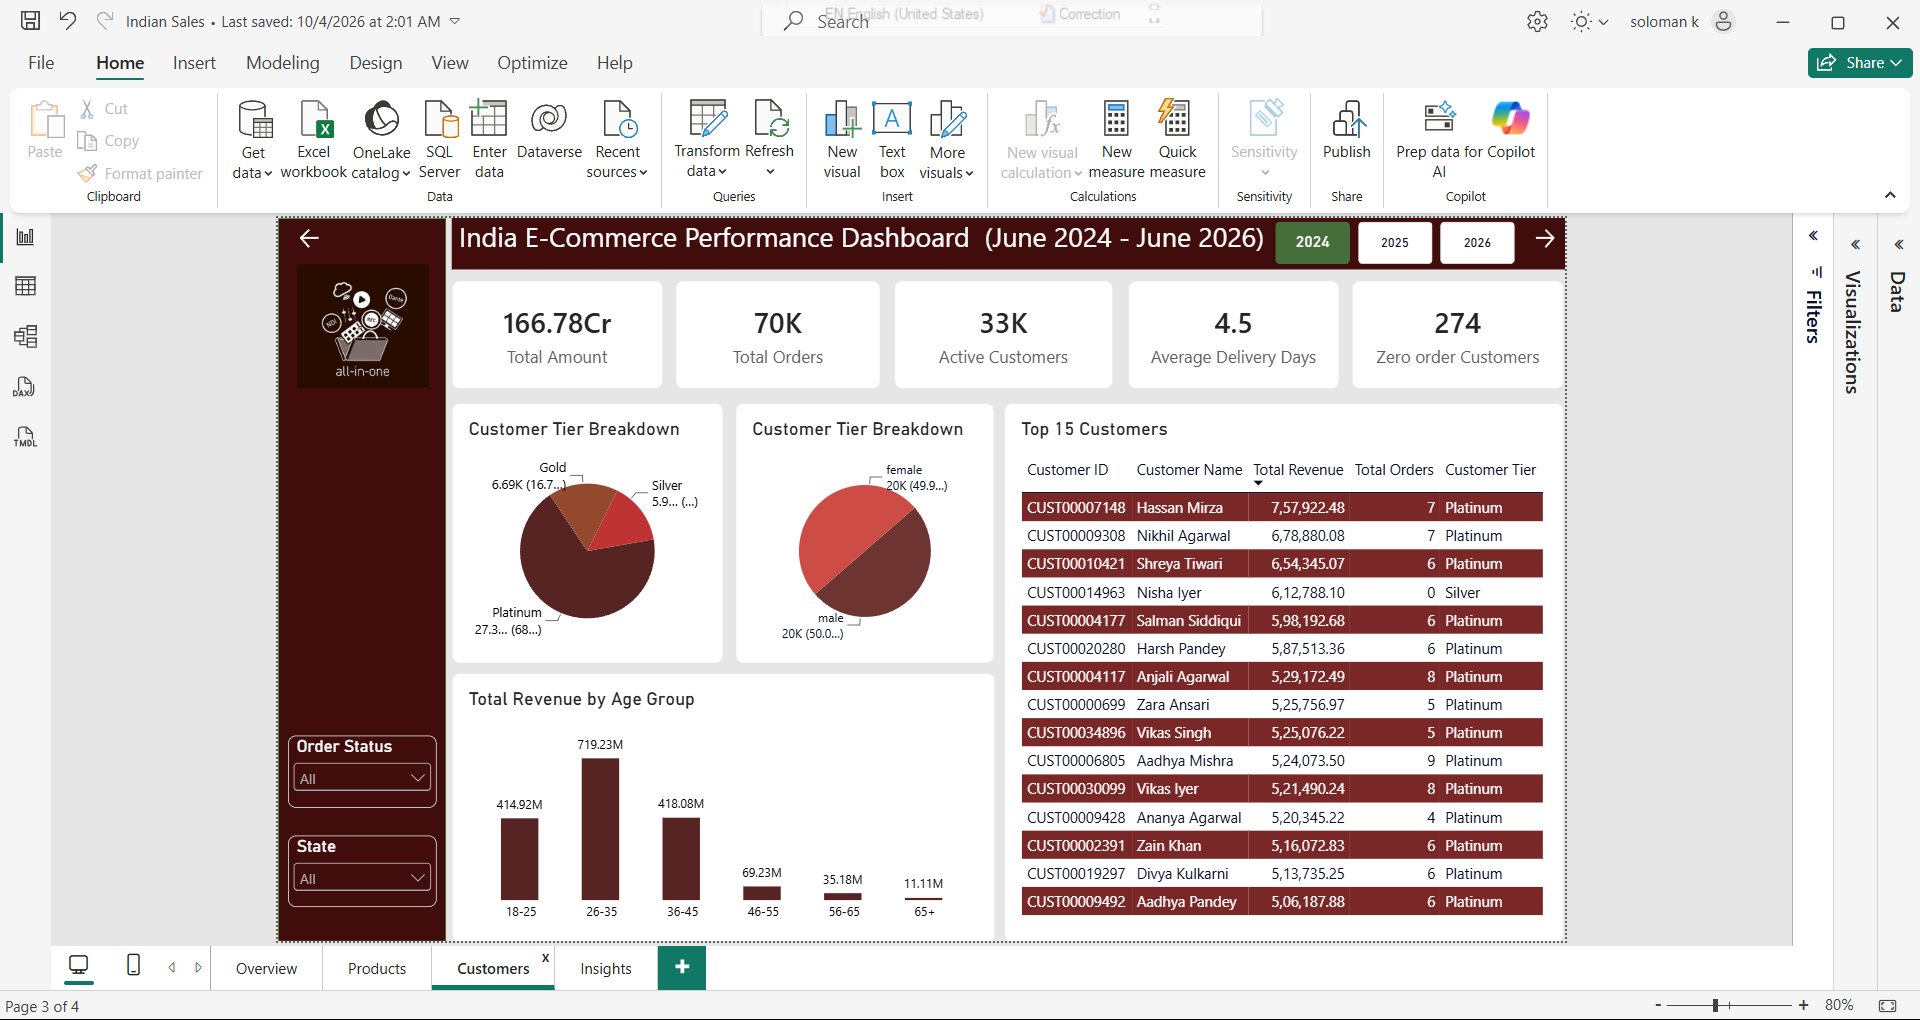

The page's visual inventory and layout, read from the dashboard file:
{"tool":"powerbi","page":{"name":"Customers","canvas":[1280,720],"ordinal":2},"visuals":[{"type":"textbox","box":[172.4,0,1107.9,51.4],"z":0},{"type":"shape","box":[0,0,167.5,720.2],"z":1000},{"type":"card","title":"Total Amount ","fields":{"Values":["sales.Total_Revenue"]},"box":[172.4,62.4,210.3,107.6],"z":2000},{"type":"card","title":"Total Amount ","fields":{"Values":["sales.Total Orders"]},"box":[396,61.9,204.2,107.6],"z":3000},{"type":"card","title":"Total Amount ","fields":{"Values":["customers.Active Customers"]},"box":[613.9,62.4,217.7,107.6],"z":4000},{"type":"card","title":"Total Amount ","fields":{"Values":["sales.Average Delivery Days"]},"box":[846.2,62.4,210.3,107.6],"z":5000},{"type":"card","title":"Total Amount ","fields":{"Values":["customers.Zero order Customers"]},"box":[1068.8,62.4,211.6,107.6],"z":6000},{"type":"advancedSlicerVisual","fields":{"Values":["Calender.Year"]},"box":[992.9,3.7,238.5,42.8],"z":7000},{"type":"image","box":[17.1,46.5,134.5,122.3],"z":8000},{"type":"pieChart","title":"Customer Tier Breakdown","fields":{"Category":["customers.Customer_Tier"],"Y":["CountNonNull(customers.Customer_ID)"]},"box":[172.9,183.9,270.3,259.3],"z":9000},{"type":"columnChart","title":"Total Revenue by Age Group","fields":{"Category":["customers.Age_Group"],"Y":["sales.Total_Revenue"]},"box":[172.4,452.4,540.5,267.8],"z":10000},{"type":"tableEx","title":"Top 15 Customers","fields":{"Values":["customers.Customer_ID","customers.Customer_Name","sales.Total_Revenue","Sum(customers.Total_Orders)","customers.Customer_Tier"]},"box":[723.2,183.9,557.1,536.5],"z":11000},{"type":"pieChart","title":"Customer Tier Breakdown","fields":{"Category":["customers.Gender"],"Y":["CountNonNull(customers.Customer_ID)"]},"box":[455.6,183.9,258,259.3],"z":12000},{"type":"slicer","fields":{"Values":["sales.Order_Status"]},"box":[9.8,514.8,148,72.1],"z":13000},{"type":"slicer","fields":{"Values":["sales.State"]},"box":[9.8,615.1,148,70.9],"z":14000},{"type":"actionButton","box":[0,0,63.6,40.4],"z":15000},{"type":"actionButton","box":[1240,0,40.4,40.4],"z":16000}]}

Visuals, with their boxes on the page's 1280x720 design canvas (x1, y1, x2, y2). These are canvas units, not pixel positions in the 1920x1020 screenshot, which may show the page scaled, cropped or inside an application window:
textbox: 172,0,1280,51
shape: 0,0,168,720
"Total Amount " card: 172,62,383,170
"Total Amount " card: 396,62,600,170
"Total Amount " card: 614,62,832,170
"Total Amount " card: 846,62,1056,170
"Total Amount " card: 1069,62,1280,170
advancedSlicerVisual - Calender.Year: 993,4,1231,46
image: 17,46,152,169
"Customer Tier Breakdown" pieChart: 173,184,443,443
"Total Revenue by Age Group" columnChart: 172,452,713,720
"Top 15 Customers" tableEx: 723,184,1280,720
"Customer Tier Breakdown" pieChart: 456,184,714,443
slicer - sales.Order_Status: 10,515,158,587
slicer - sales.State: 10,615,158,686
actionButton: 0,0,64,40
actionButton: 1240,0,1280,40
